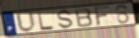6: (115, 4, 131, 26)
B: (74, 7, 94, 28)
F: (93, 5, 113, 27)
L: (37, 11, 56, 32)
S: (57, 9, 75, 30)
U: (15, 11, 38, 34)
